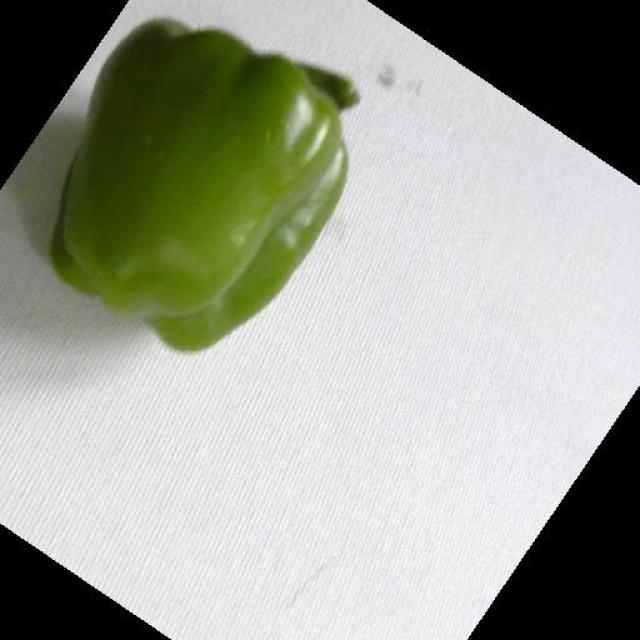Fresh_Capsicum: (111, 3, 342, 351)
